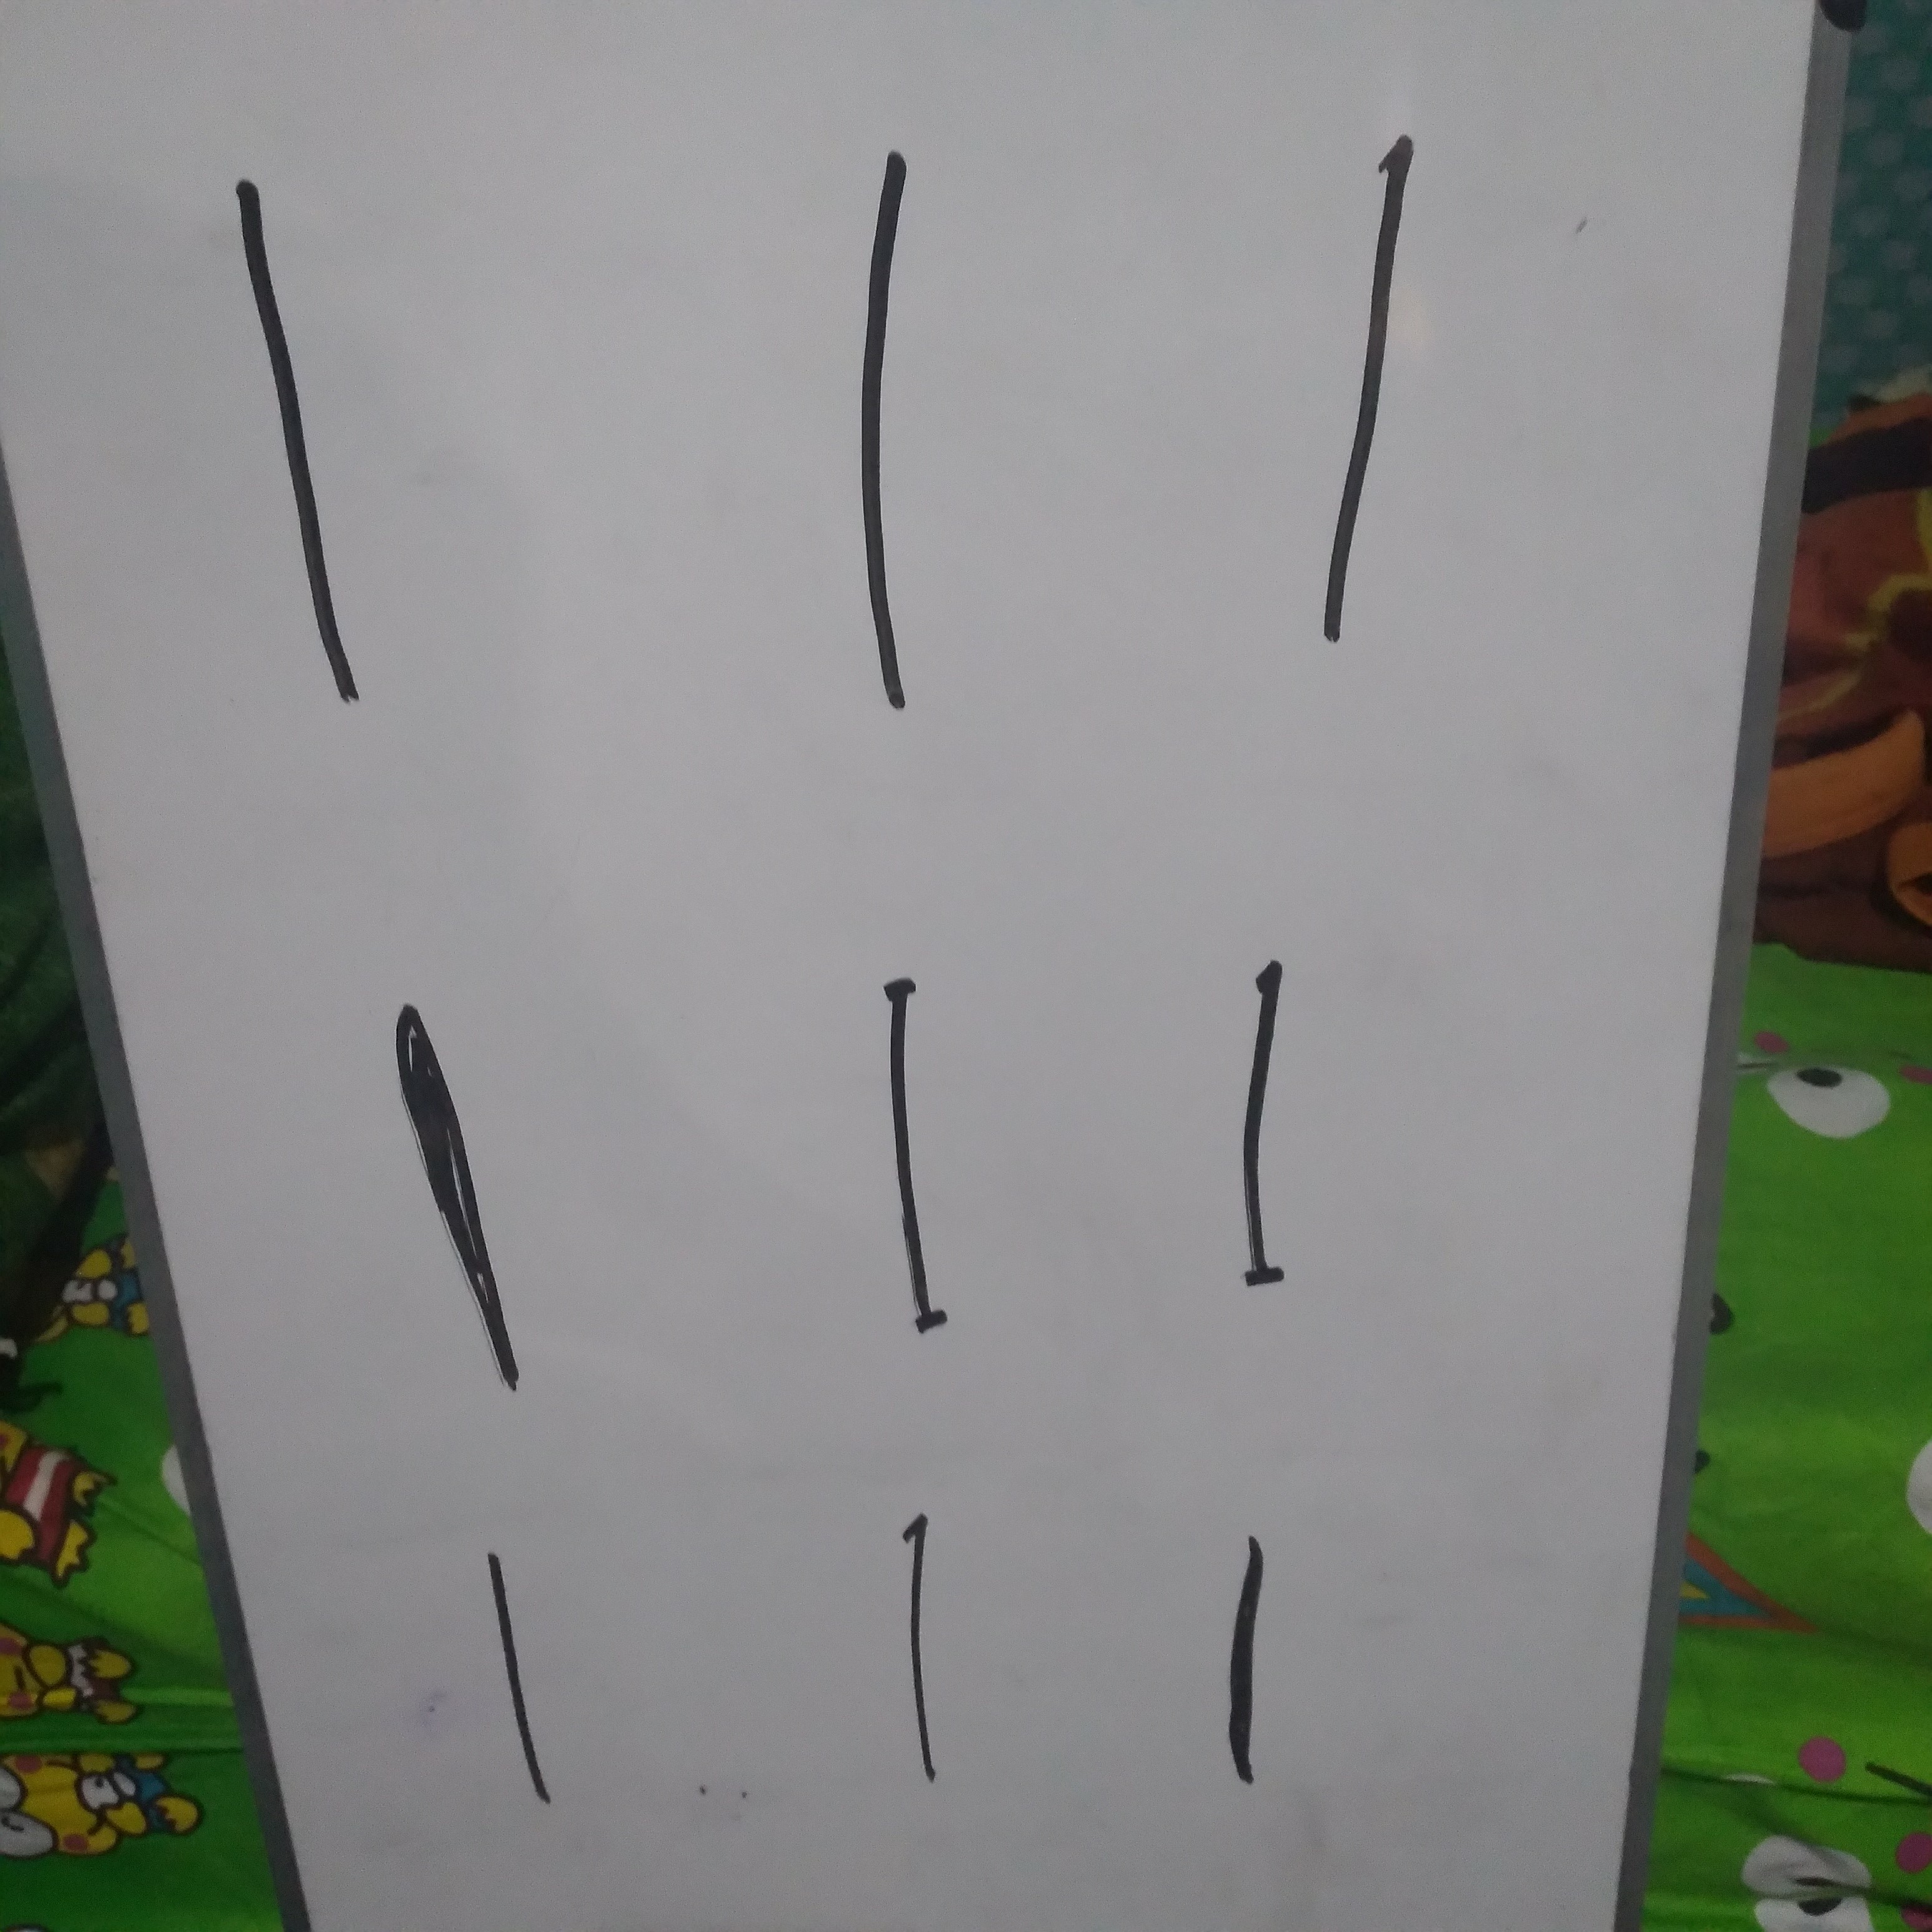num1: (1285, 105, 1443, 694), (216, 152, 374, 741), (788, 123, 945, 712), (375, 875, 533, 1464), (844, 898, 953, 1391), (1193, 1394, 1302, 1888), (853, 1419, 962, 1913), (1206, 887, 1315, 1380), (458, 1433, 567, 1927)
